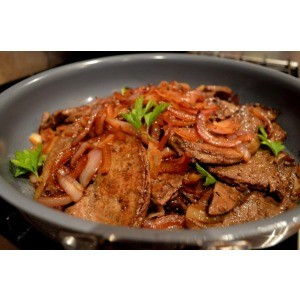liver_brain food: (92, 88, 266, 213)
